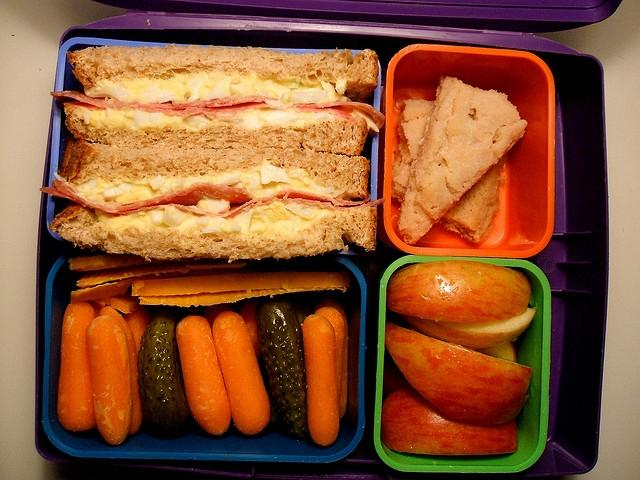apple: (385, 320, 533, 425), (379, 388, 518, 454), (386, 260, 532, 322), (401, 307, 536, 350), (382, 347, 417, 402), (468, 341, 516, 363)
carrot: (212, 310, 271, 436), (176, 314, 232, 436), (85, 314, 134, 446), (100, 306, 142, 435), (302, 314, 340, 446), (58, 300, 96, 432), (314, 300, 348, 420), (315, 306, 344, 407), (123, 306, 152, 356), (239, 299, 261, 364), (204, 304, 228, 332), (85, 300, 106, 310)
